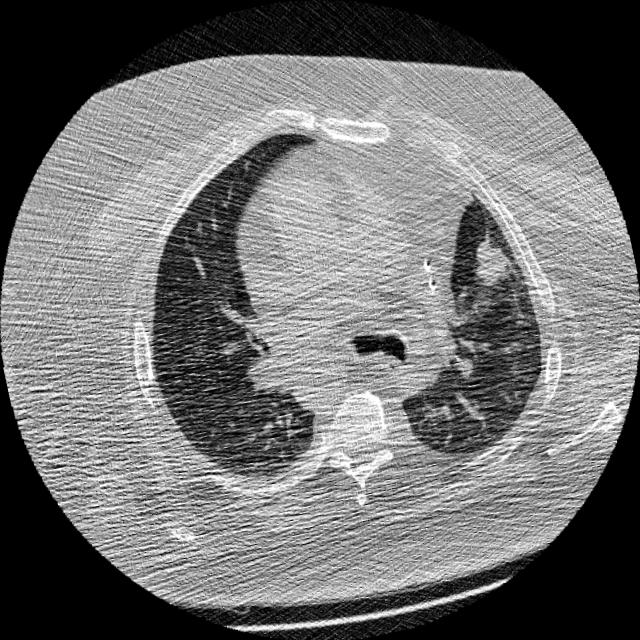nodule: (451, 215, 540, 304)
